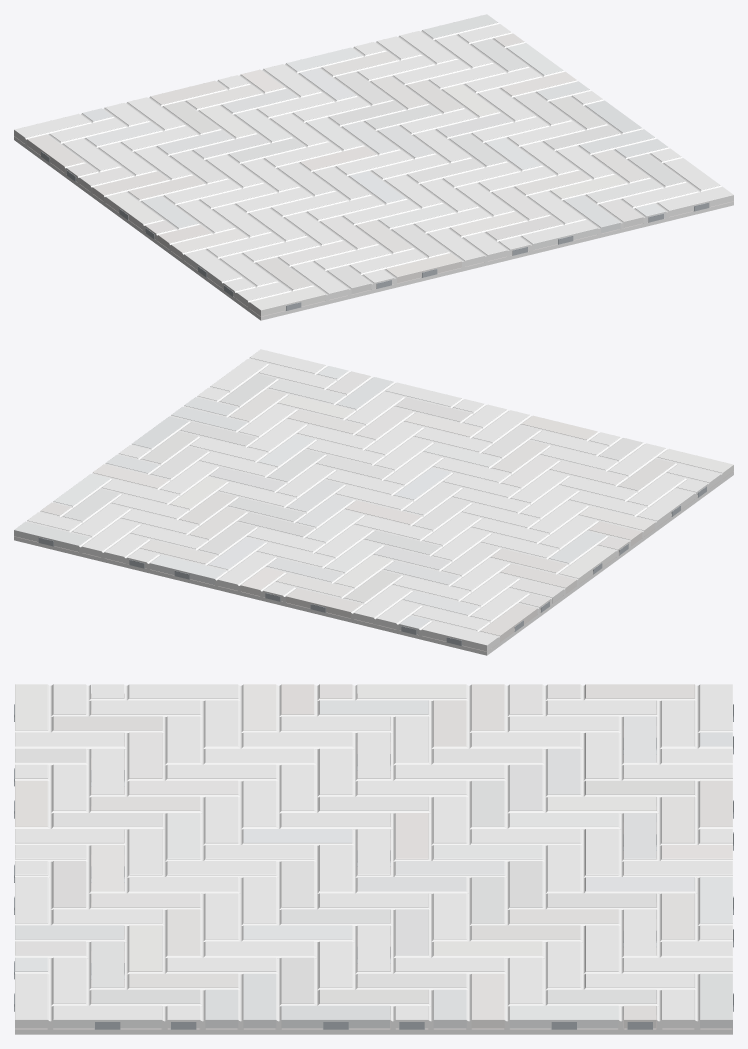
File: board_5.glb
3 views of the same model, one above another, from view 1: azimuth 30°, elevation 25°; view 2: azimuth 150°, elevation 25°; view 3: azimuth 270°, elevation 25° (orthographic). The views are drawn at different scales.
Visible parts, largest first — view 1: T01_T01, MORTAR, T02_T02, backing, T03_T03, CLIP_RC-50; view 2: T01_T01, MORTAR, T02_T02, backing, T03_T03, CLIP_RC-50; view 3: T01_T01, MORTAR, T02_T02, T03_T03, backing, CLIP_RC-50.
Part boxes in pixels (x1,y1,x2,y2): T01_T01: [14, 14, 733, 316]; MORTAR: [25, 23, 721, 308]; T02_T02: [79, 24, 668, 306]; backing: [14, 136, 733, 320]; T03_T03: [66, 33, 681, 296]; CLIP_RC-50: [41, 151, 709, 310]; T01_T01: [14, 349, 733, 651]; MORTAR: [26, 358, 722, 643]; T02_T02: [27, 371, 720, 629]; backing: [14, 471, 733, 655]; T03_T03: [40, 366, 707, 634]; CLIP_RC-50: [38, 486, 706, 645]; T01_T01: [15, 684, 732, 1028]; MORTAR: [15, 685, 732, 1029]; T02_T02: [15, 684, 732, 1028]; T03_T03: [15, 684, 732, 1028]; backing: [15, 694, 732, 1034]; CLIP_RC-50: [14, 704, 733, 1029].
Size of the model in its own units: 1.57 by 0.033 by 1.42.
Materials: 6 (1 with a texture image).
